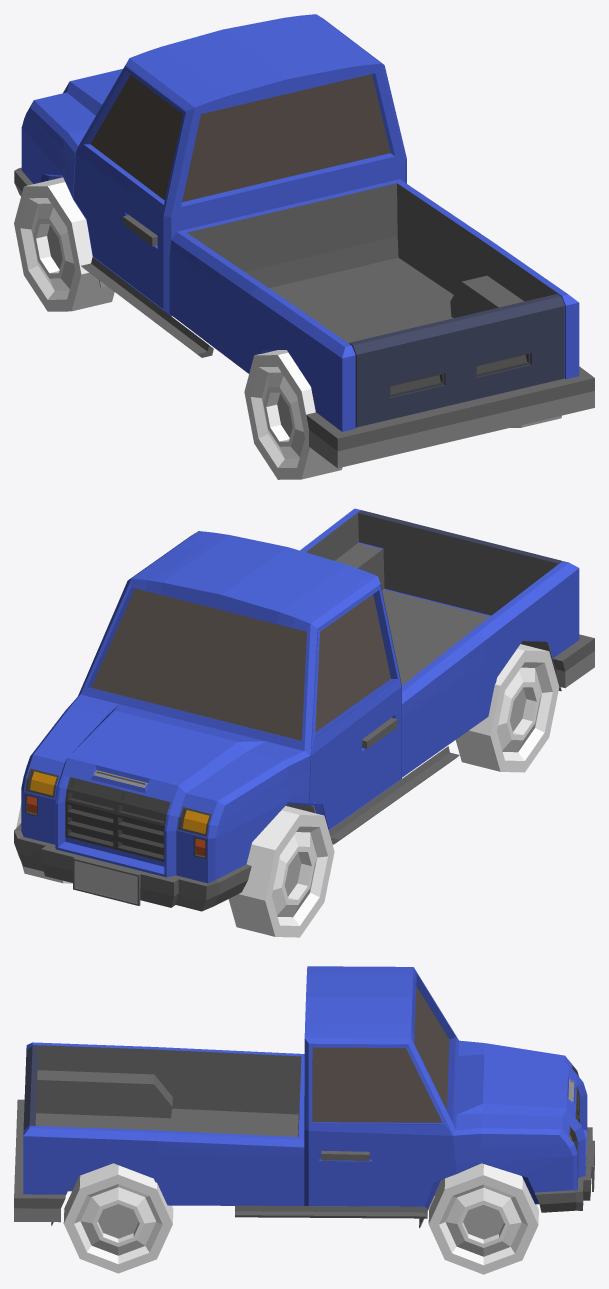
The model's file is Blue Car.fbx.
The picture shows the model from 3 angles, top to bottom: view 1: azimuth 30°, elevation 25°; view 2: azimuth 150°, elevation 25°; view 3: azimuth 270°, elevation 25°; orthographic projection. The views are drawn at different scales.
Visible parts, largest first — view 1: Blue_Car; view 2: Blue_Car; view 3: Blue_Car.
Boxes of the visible parts, left/top/right/bottom form: Blue_Car: left=14, top=14, right=594, bottom=479; Blue_Car: left=14, top=508, right=594, bottom=937; Blue_Car: left=14, top=966, right=594, bottom=1274.
Bounding box in the file's own units: 169 × 172 × 401.
